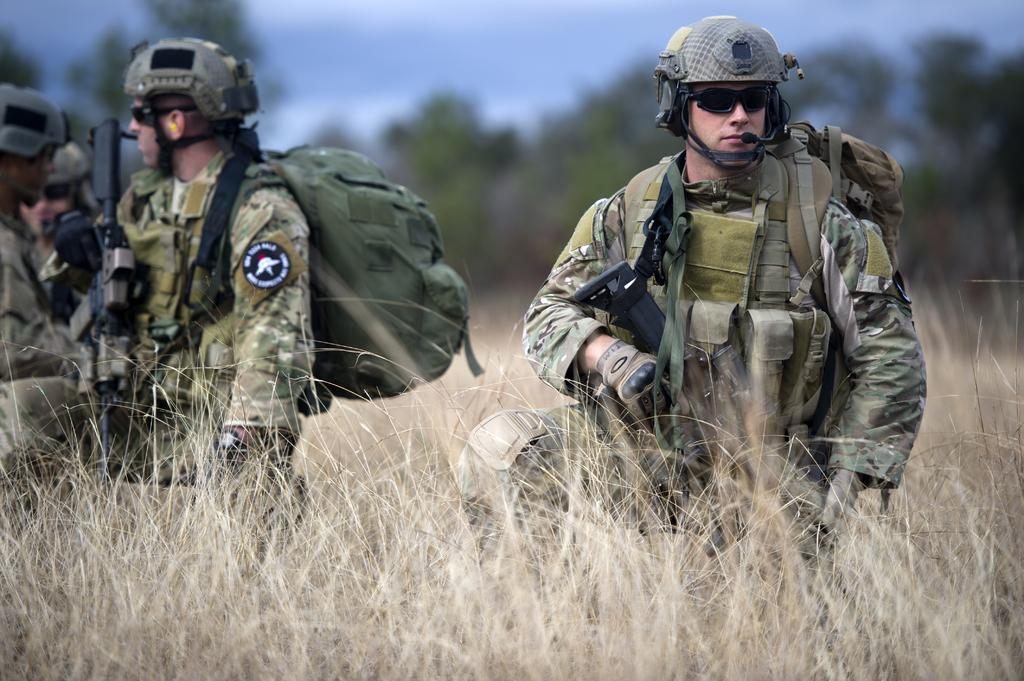Hat: (653, 23, 811, 159)
